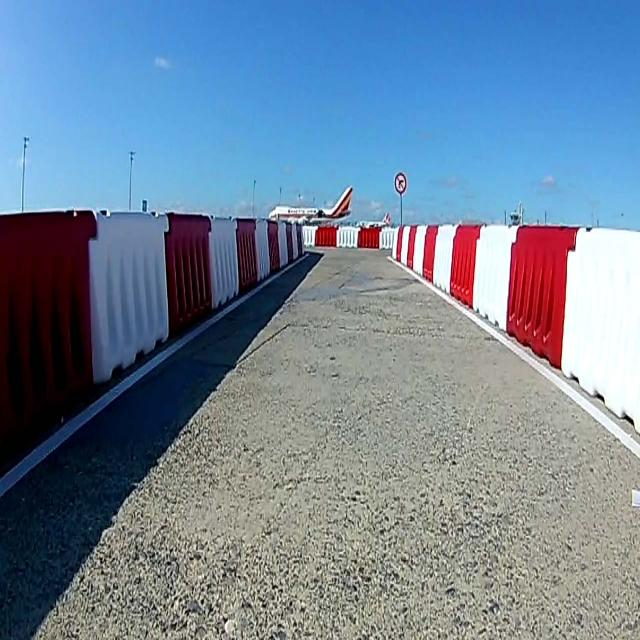sagadonulmez: (394, 172, 408, 194)
